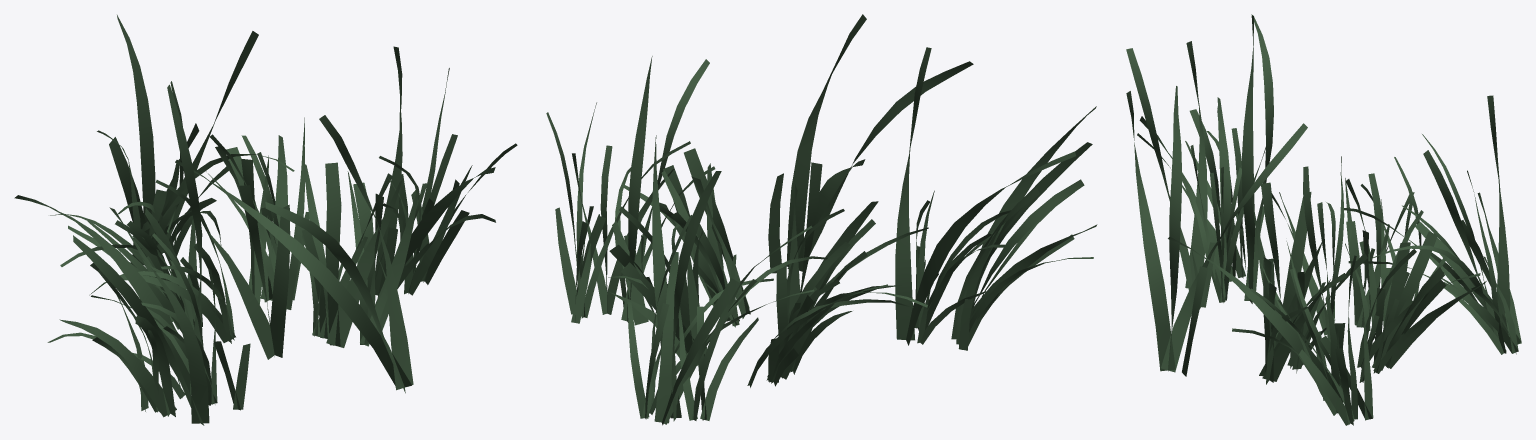
Rendered from grass.fbx.
3 views of the same model, side by side, from view 1: azimuth 30°, elevation 25°; view 2: azimuth 150°, elevation 25°; view 3: azimuth 270°, elevation 25° (orthographic). The views are drawn at different scales.
Visible parts, largest first — view 1: grass; view 2: grass; view 3: grass.
Part boxes in pixels (x1=…): grass: x1=14, y1=15, x2=517, y2=425; grass: x1=546, y1=14, x2=1097, y2=425; grass: x1=1126, y1=14, x2=1521, y2=425.
Size of the model in its own units: 1.86 by 1.12 by 1.44.
